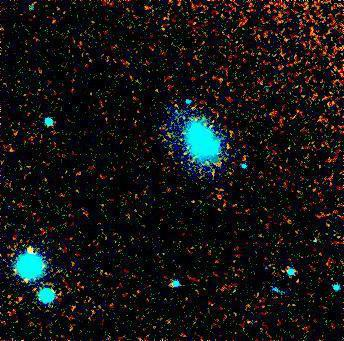star: (17, 234, 47, 264)
